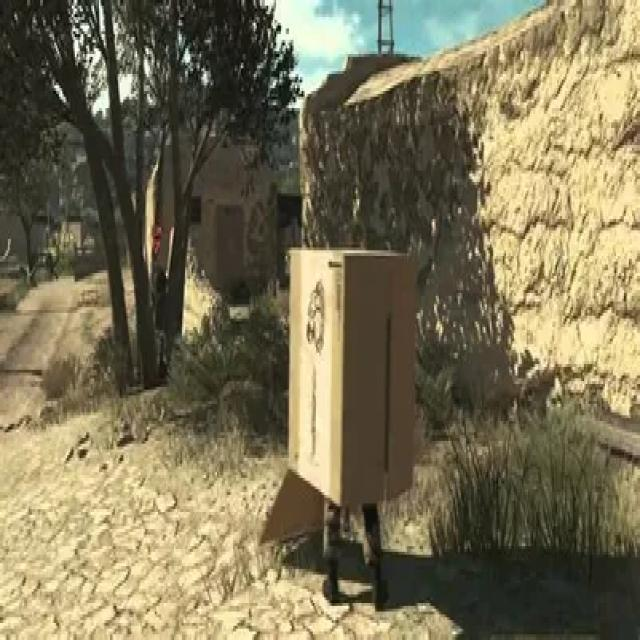snake-in-cardboard-boxes: (258, 243, 417, 542)
